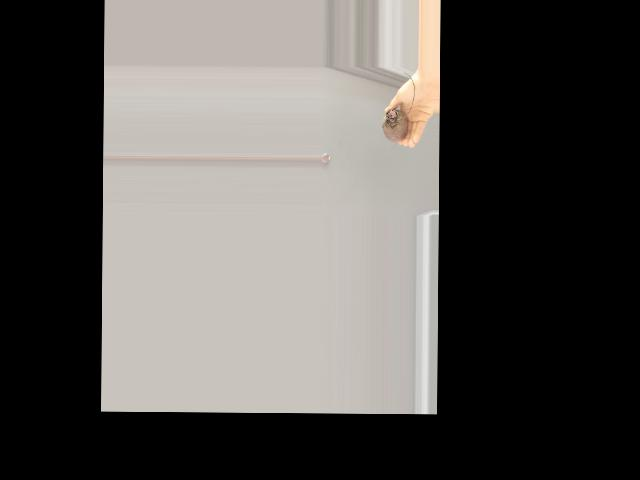beet: (382, 73, 415, 151)
